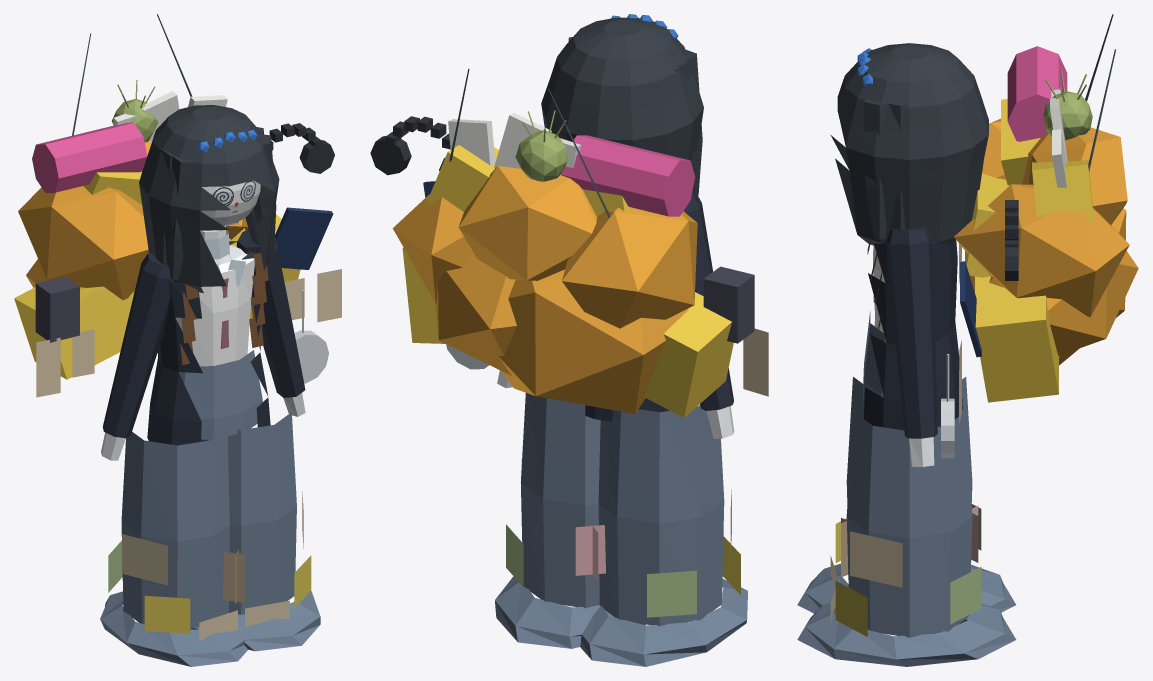
Rendered from heki.glb.
3 renders of one model, left to right at view 1: azimuth 30°, elevation 25°; view 2: azimuth 150°, elevation 25°; view 3: azimuth 270°, elevation 25°, orthographic. The views are drawn at different scales.
Visible parts, largest first — view 1: heki; view 2: heki; view 3: heki.
Part boxes in pixels (left/top/right/bottom): heki: left=14, top=14, right=341, bottom=666; heki: left=370, top=14, right=768, bottom=666; heki: left=797, top=14, right=1138, bottom=666.
Size of the model in its own units: 0.655 by 1.04 by 0.5452.
27 materials, 1 textured.
